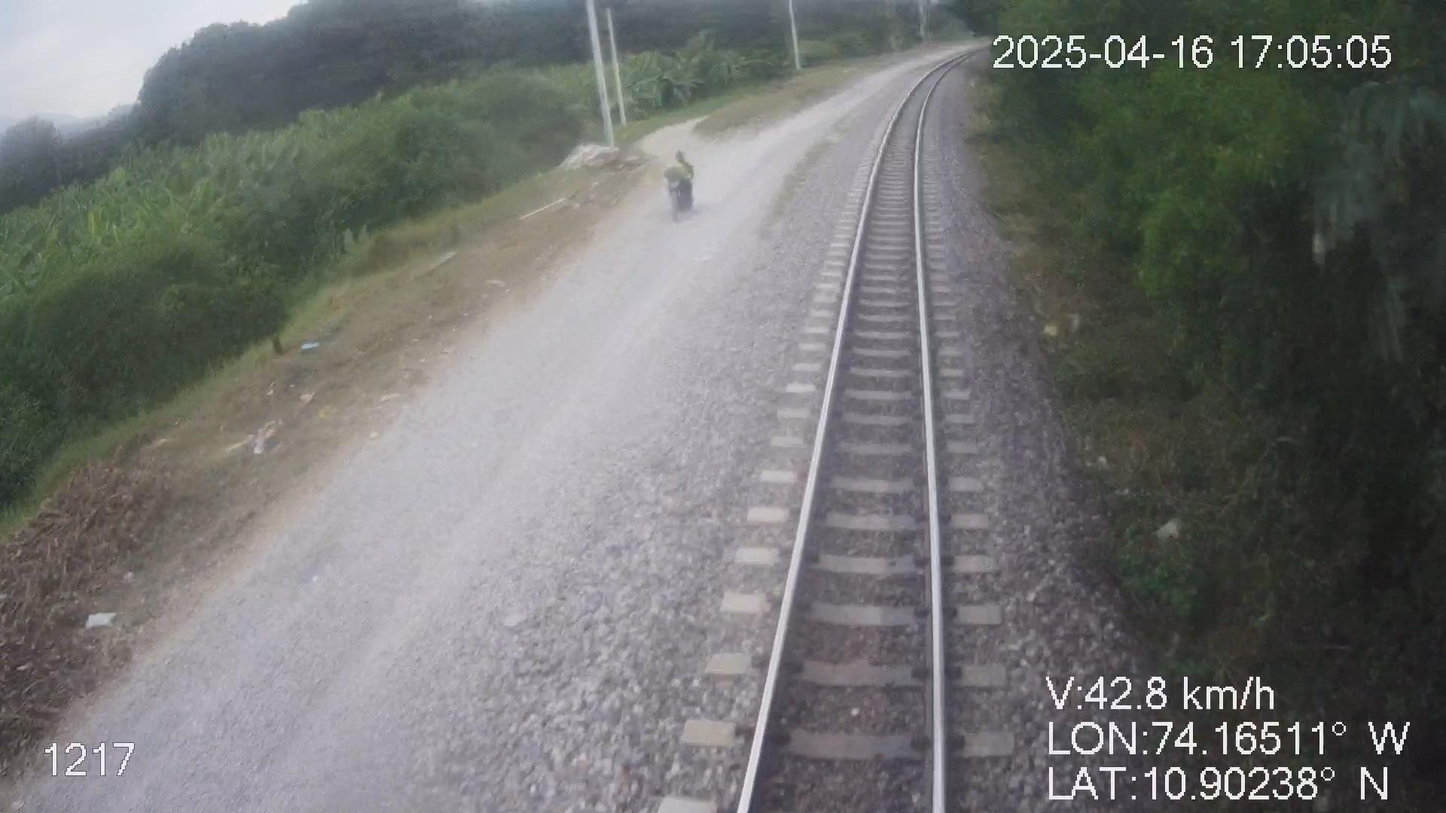Pasto: (0, 0, 793, 538), (974, 0, 1445, 745)
